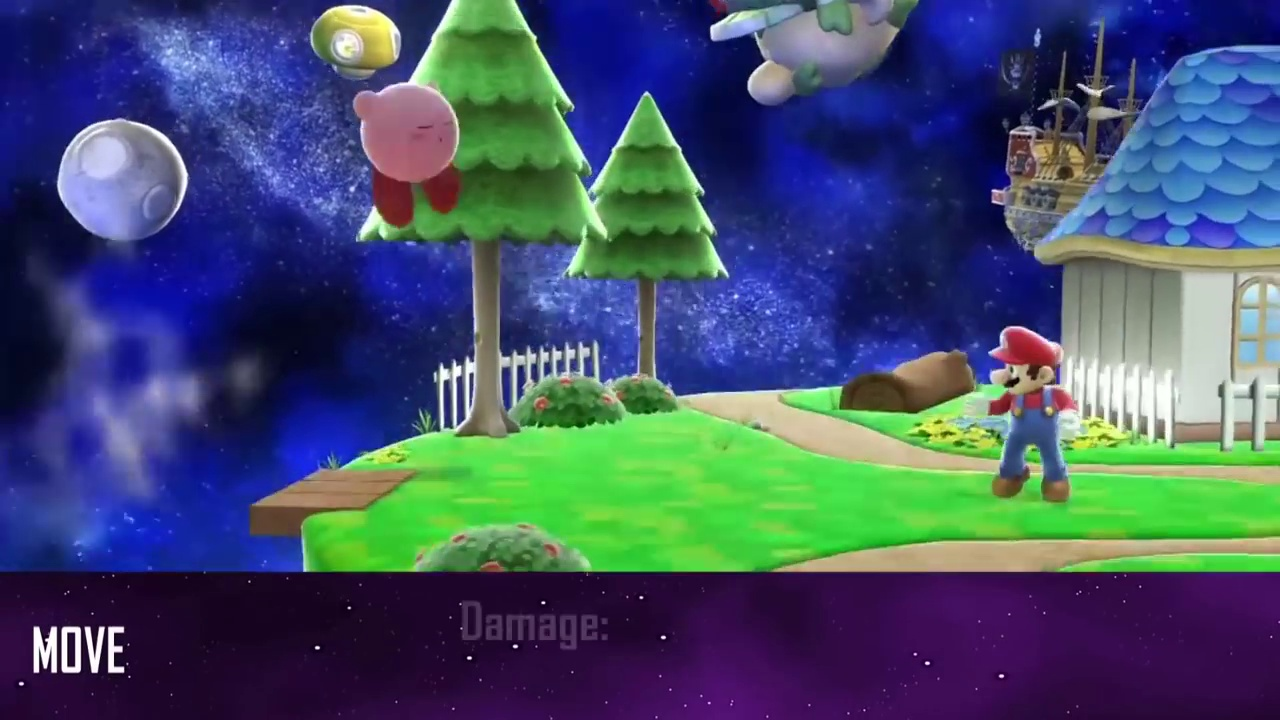Mario: (963, 325, 1081, 502)
